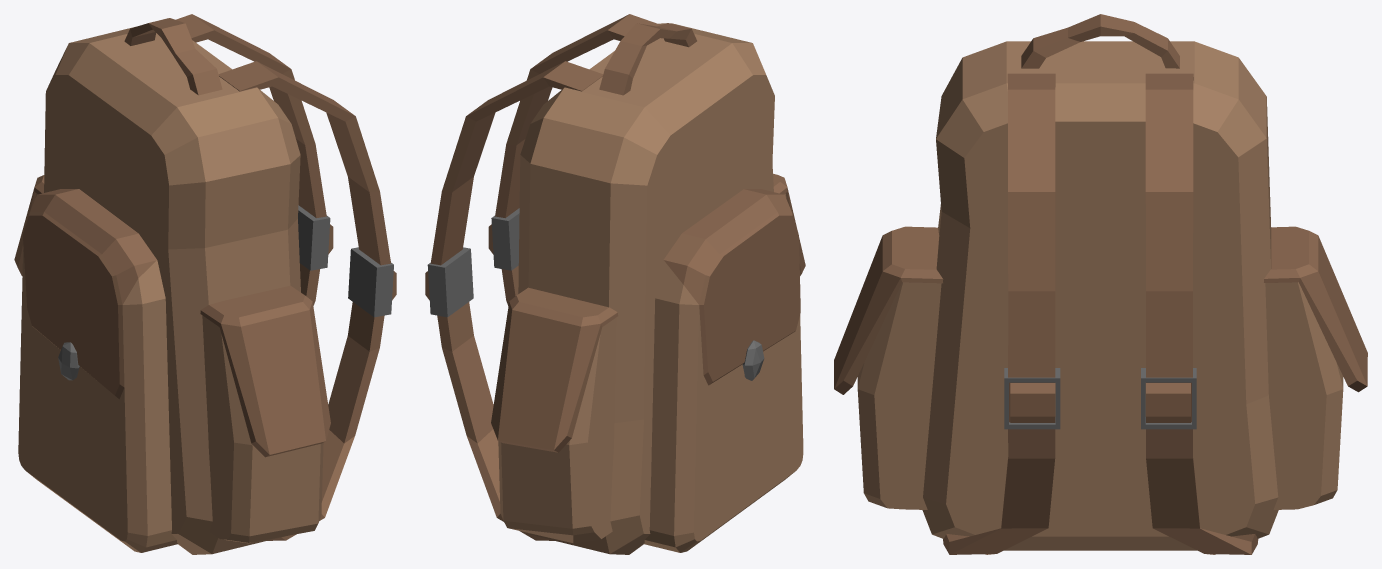
Rendered from backpack.glb.
3 renders of one model, left to right at view 1: azimuth 30°, elevation 25°; view 2: azimuth 150°, elevation 25°; view 3: azimuth 270°, elevation 25°, orthographic. The views are drawn at different scales.
Visible parts, largest first — view 1: Backpack_Cube.006; view 2: Backpack_Cube.006; view 3: Backpack_Cube.006.
Part boxes in pixels (x1,y1,x2,y2): Backpack_Cube.006: (14,14,396,554); Backpack_Cube.006: (425,14,805,554); Backpack_Cube.006: (834,14,1367,554).
Bounding box in the file's own units: 0.926 × 1.46 × 1.36.
